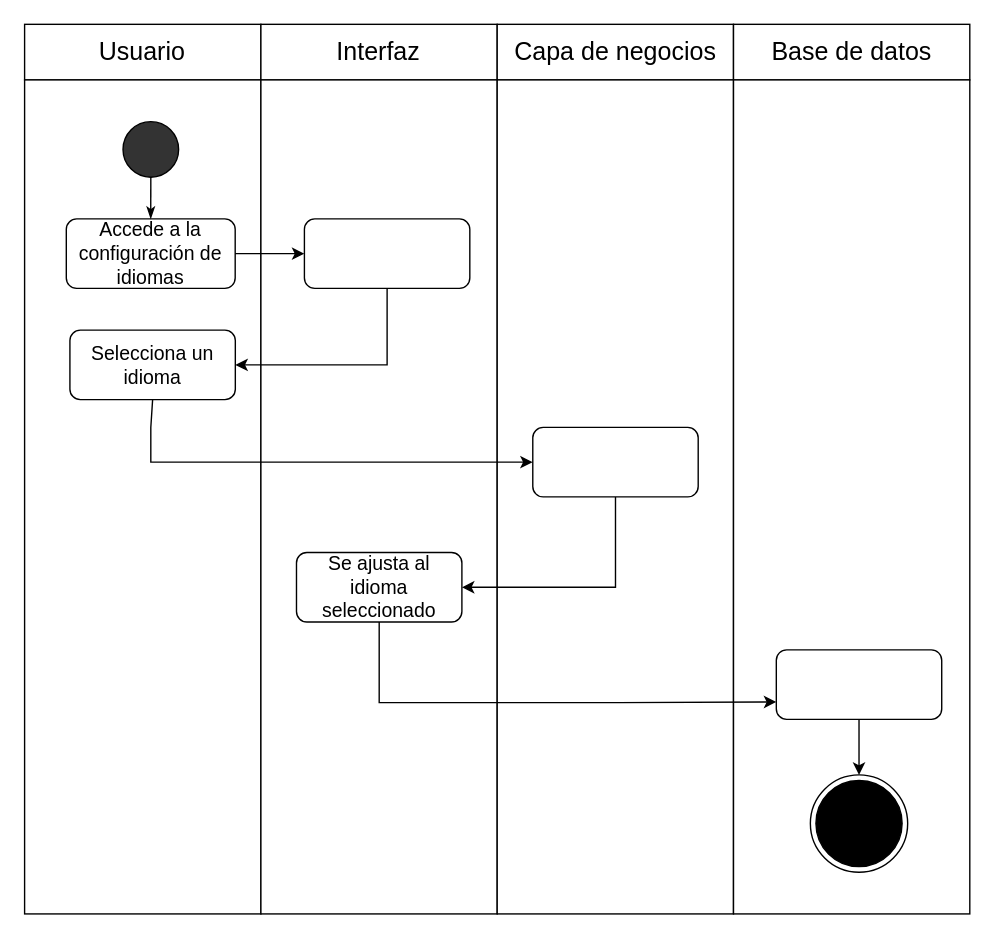
The diagram is 994 pixels wide and 938 high, and some of its shapes have lost their labels. Here are the shapes that lost their labels. From the top down, the centre of each, then its label:
the point at 386,253: Muestra opciones de idioma disponibles
the point at 614,461: Se gestiona el cambio de idioma
the point at 858,683: Guarda las preferencias del idioma
